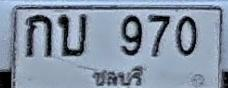0: (176, 15, 198, 56)
7: (148, 14, 170, 57)
9: (121, 14, 142, 55)
A01: (26, 14, 52, 57)
A26: (58, 13, 87, 56)
CBI: (89, 62, 145, 88)
